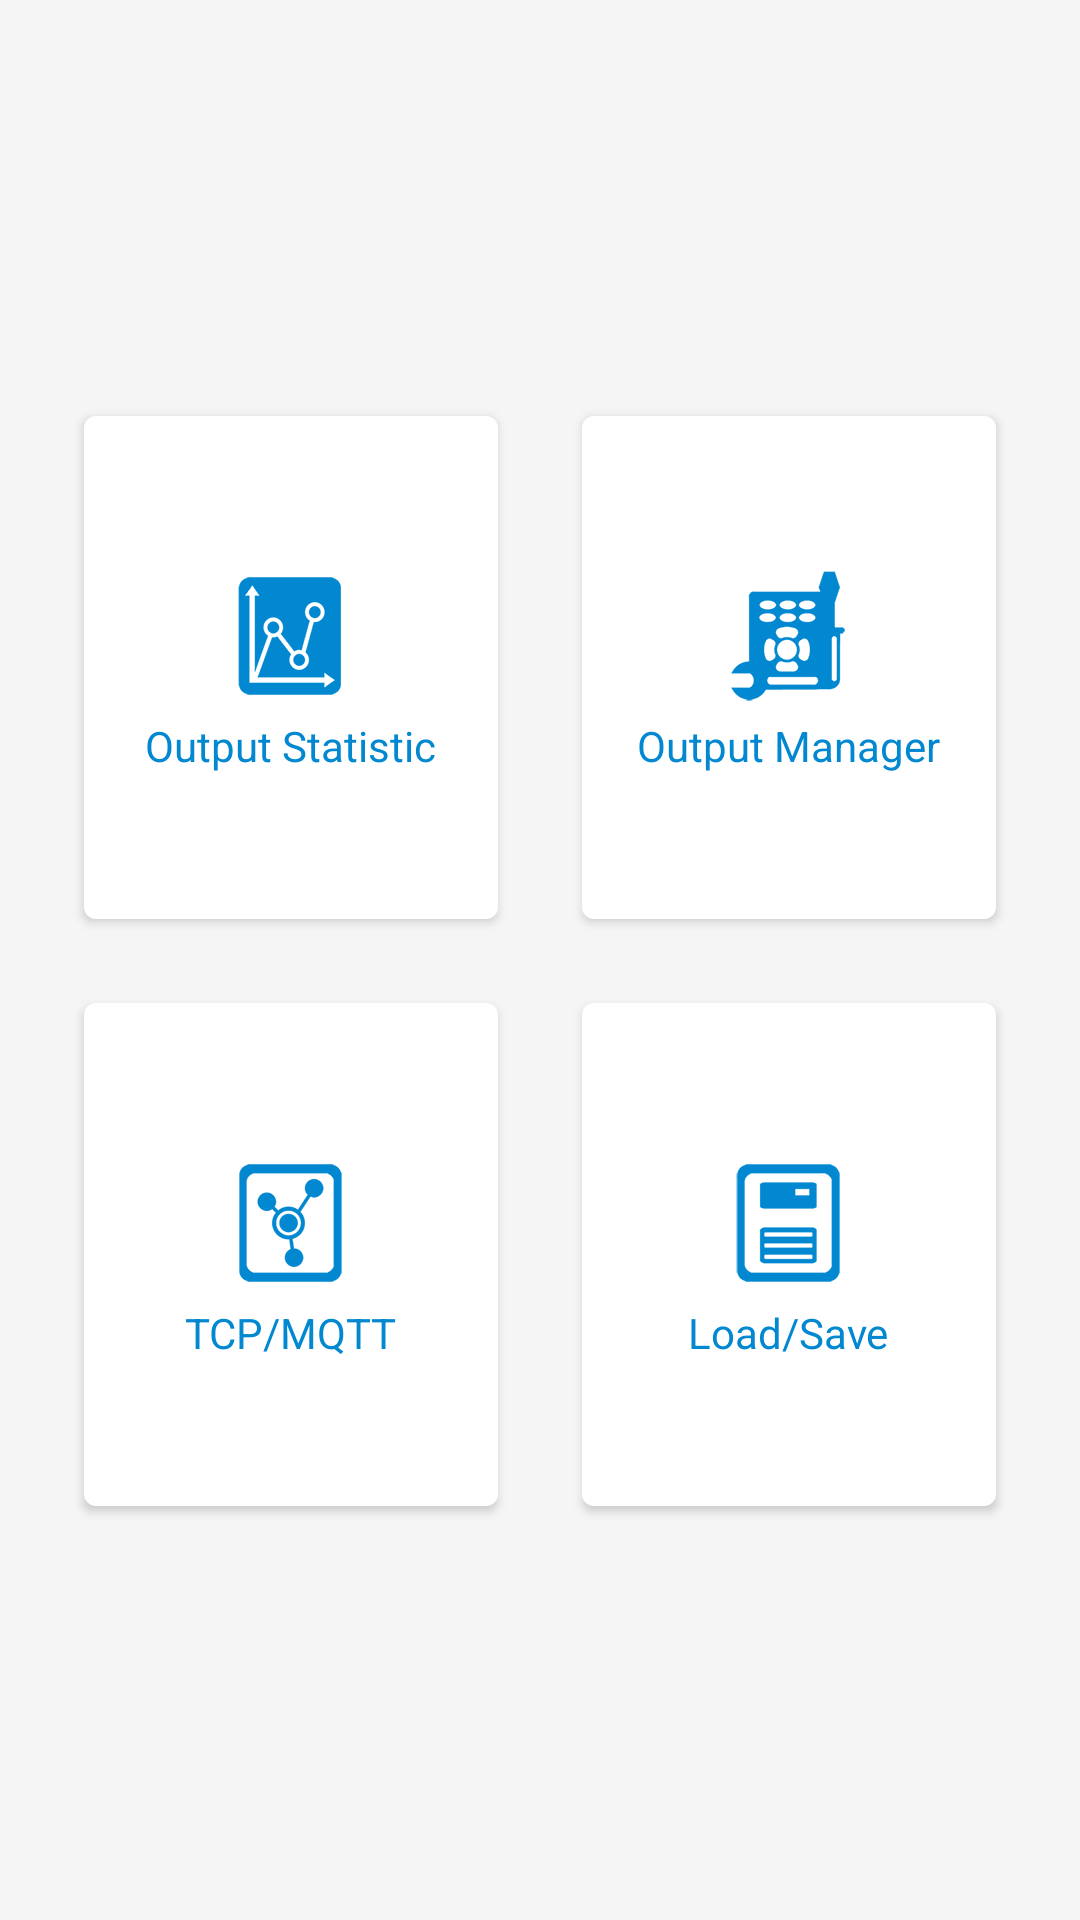

Where icons sit on this 1080 x 1920 app screen, as (x1, y1, x2, y2):
customize config: (239, 1164, 342, 1282)
customize controller: (731, 571, 845, 701)
customize data: (736, 1164, 840, 1282)
customize statistic: (238, 577, 341, 695)
